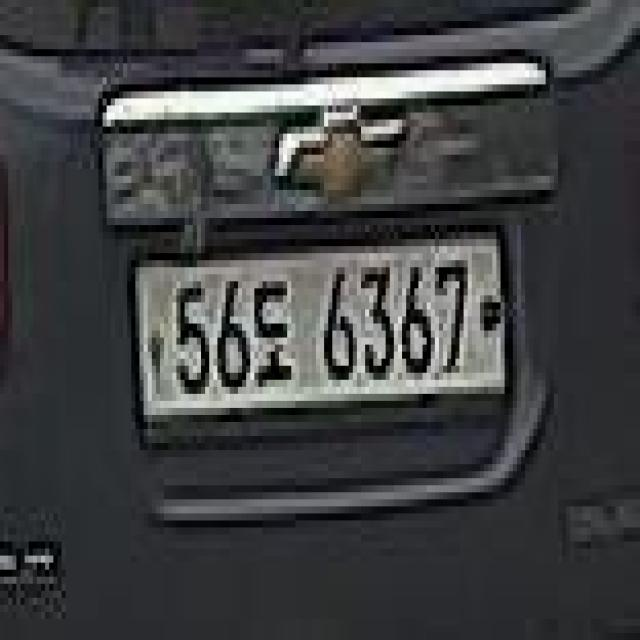illegal_plate: (128, 224, 512, 433)
